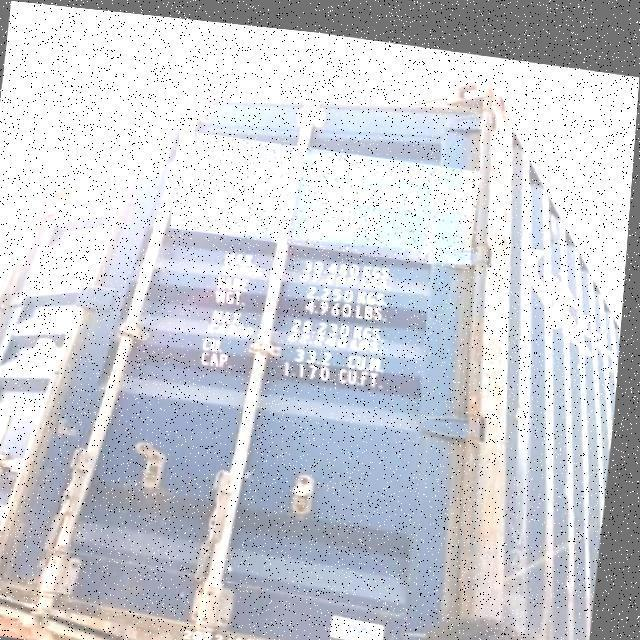container_number_h: (173, 125, 484, 259)
